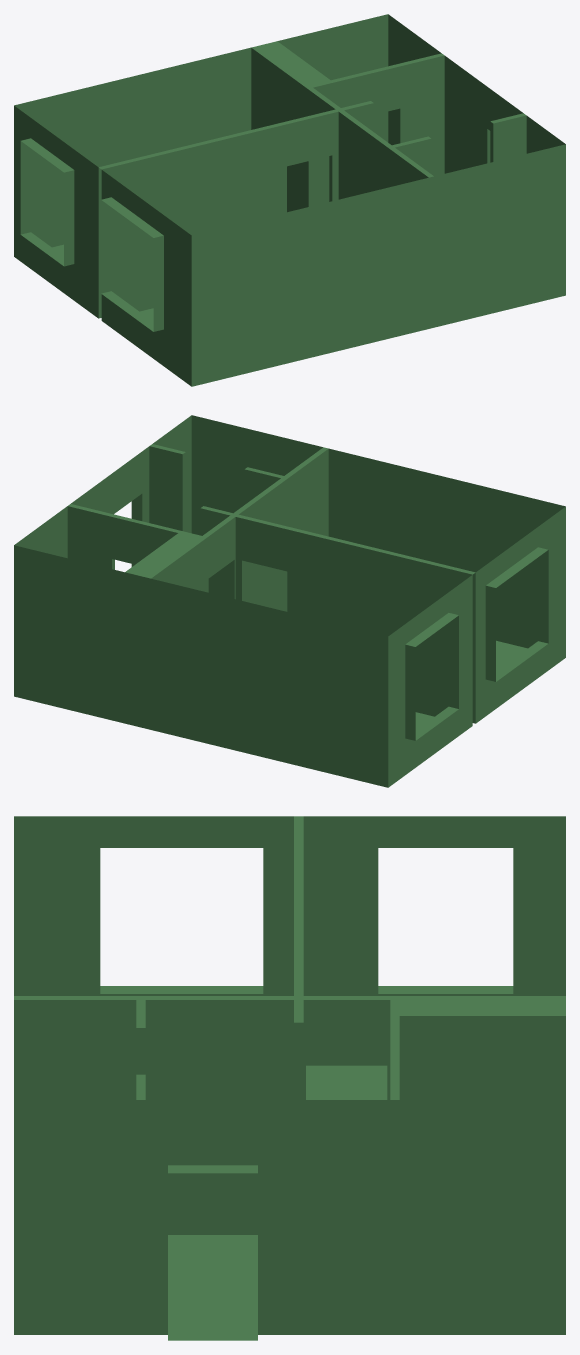
The model's file is Rooms_A_2_3_38.FBX.
3 renders of one model, top to bottom at view 1: azimuth 30°, elevation 25°; view 2: azimuth 150°, elevation 25°; view 3: azimuth 270°, elevation 25°, orthographic. The views are drawn at different scales.
Visible parts, largest first — view 1: Rooms_A_2_3_38; view 2: Rooms_A_2_3_38; view 3: Rooms_A_2_3_38.
Part boxes in pixels (x1,y1,x2,y2): Rooms_A_2_3_38: [14, 14, 565, 386]; Rooms_A_2_3_38: [14, 415, 565, 787]; Rooms_A_2_3_38: [14, 816, 565, 1340].
Bounding box in the file's own units: 7.65 × 2.8 × 5.96.
